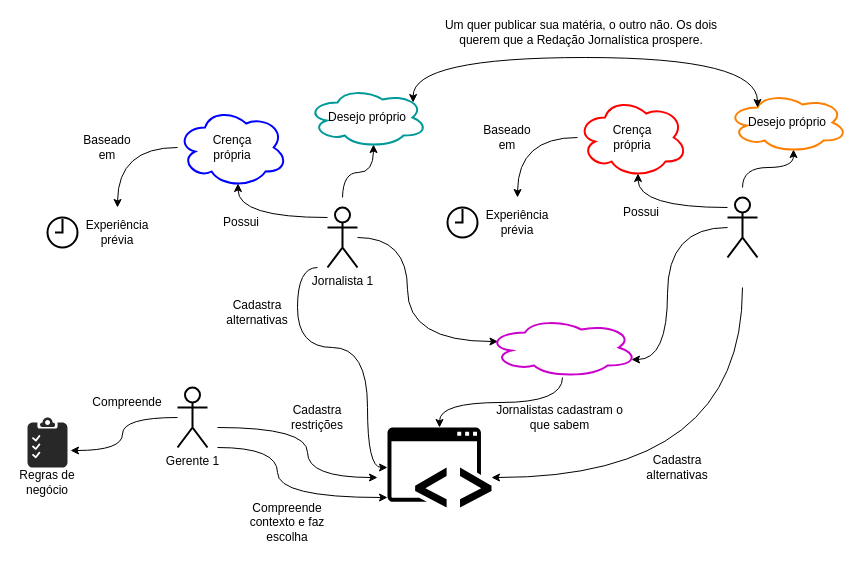
The diagram is 865 pixels wide and 561 high, and some of its shapes have lost their labels. Here are the shapes that lost their labels. From the top down, the centre of each, then its label:
point 742,227: Jornalista 2
point 562,347: Intenção comum, com desacordos pontuais
point 439,467: Módulo de Workflow
